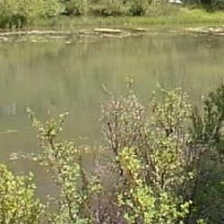neutral: (7, 11, 223, 221)
